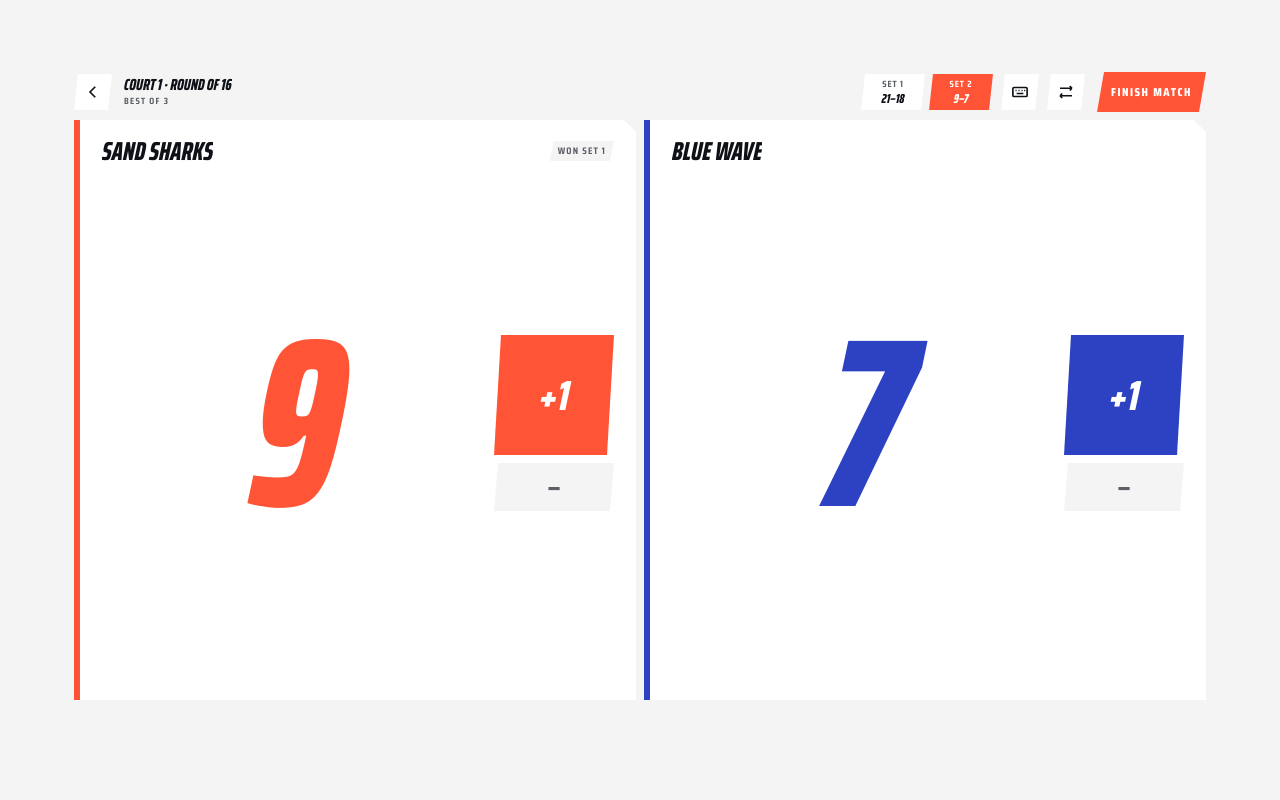
Test: says whether the latest live score was saved
Expected: the text "Live score saved" is not shown
What coordinates should you click on to do the following:
click the button named "Add point to Blue Wave"
I would click on:
 (1124, 395)
Its box is top-left (1064, 335), bottom-right (1184, 455).
Wait 500 ms
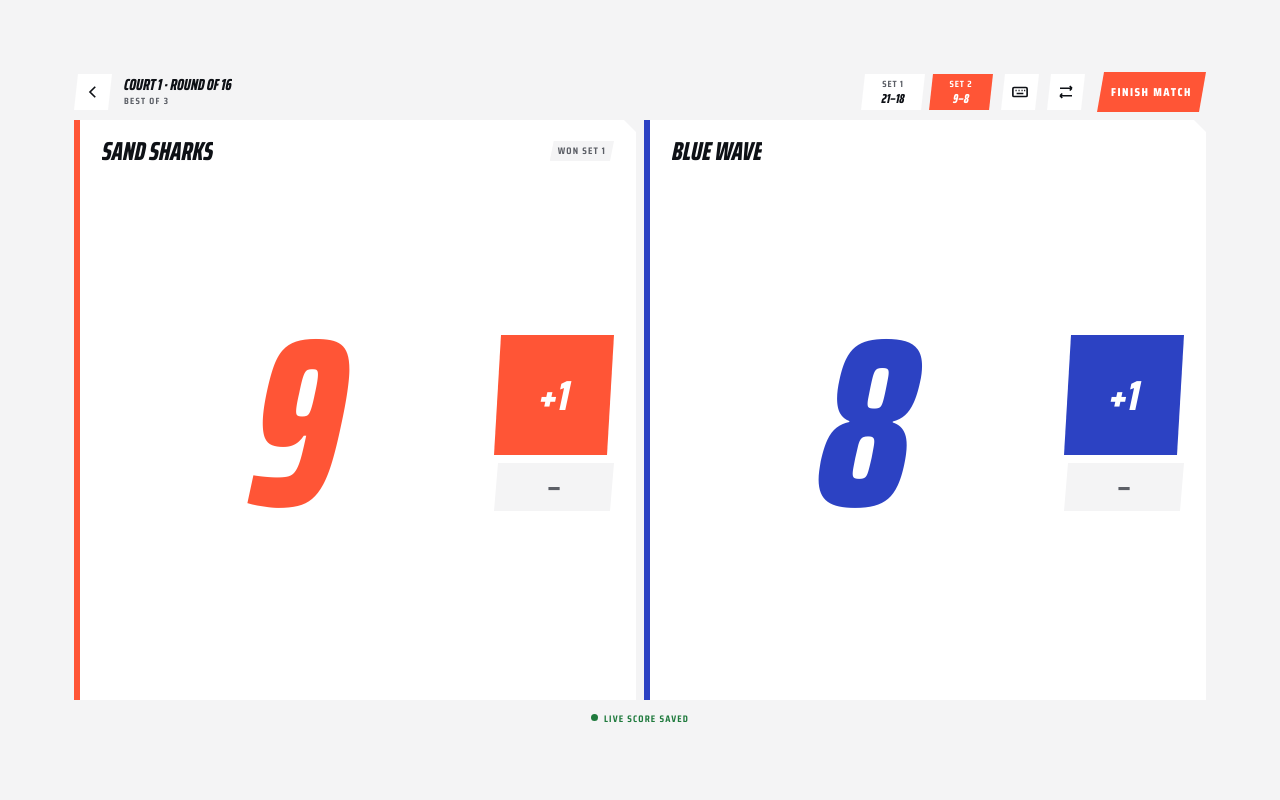
Expected: the text "Live score saved" is shown, top-left (591, 712), bottom-right (689, 726)
What coordinates should you click on to do the following:
click the button named "Add point to Blue Wave"
I would click on:
 (1124, 395)
Its box is top-left (1064, 335), bottom-right (1184, 455).
Wait 500 ms
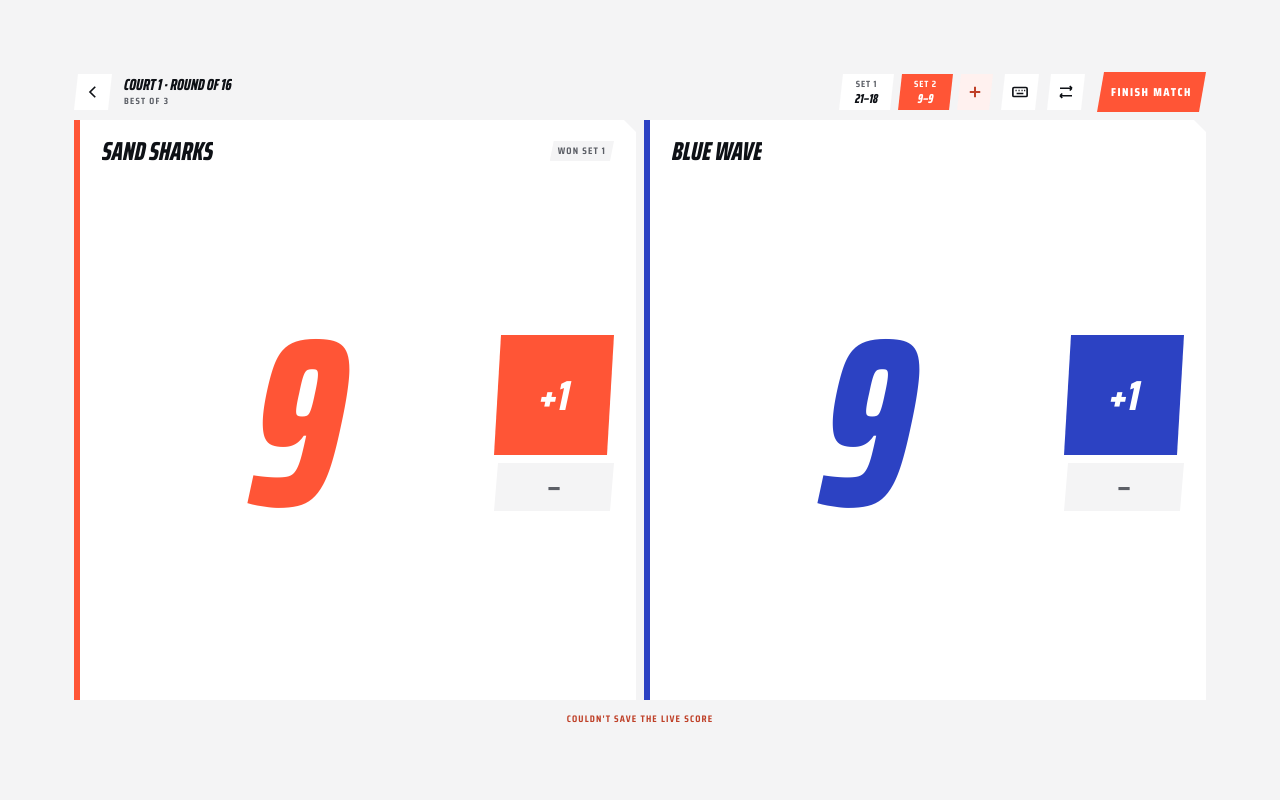
Expected: the text "Couldn't save the live score" is shown, top-left (567, 712), bottom-right (713, 726)
Expected: the text "Live score saved" is gone
